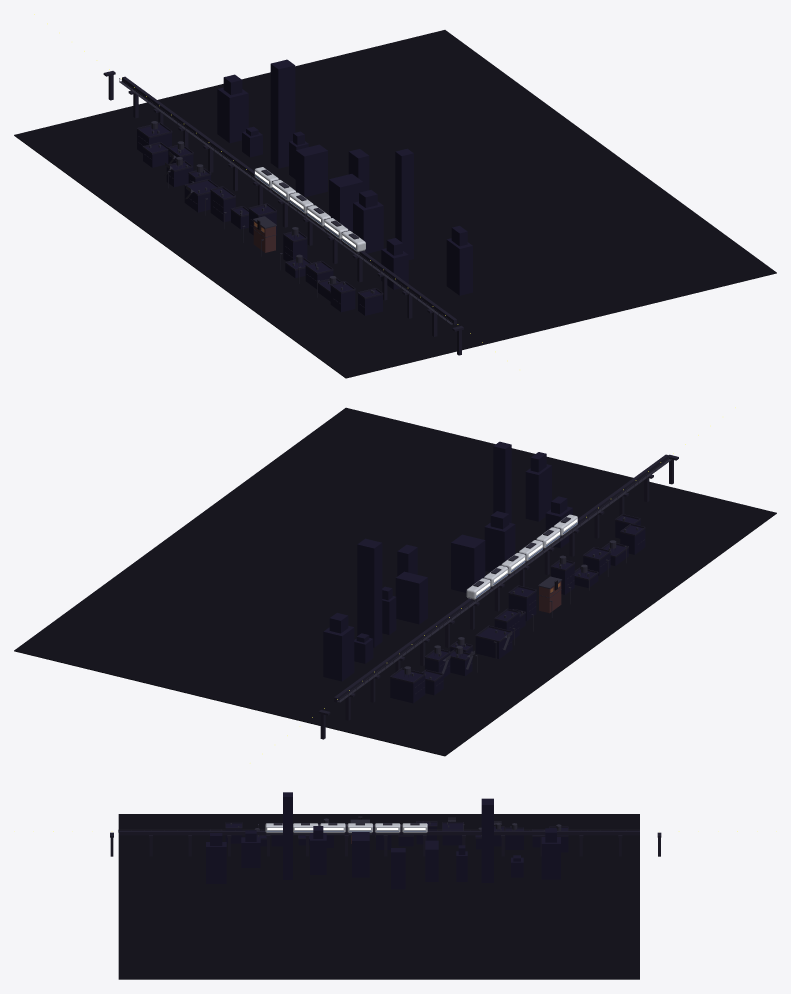
File: city.glb
The picture shows the model from 3 angles, top to bottom: view 1: azimuth 30°, elevation 25°; view 2: azimuth 150°, elevation 25°; view 3: azimuth 270°, elevation 25°; orthographic projection. The views are drawn at different scales.
Visible parts, largest first — view 1: City_Ground, Monorail_Bridge, Facade_Detail, Tower_23, Tower_17, Train_Body, Tower_25, Tower_15, Tower_18, Tower_21, Tower_19, Tower_16 (+4 smaller); view 2: City_Ground, Monorail_Bridge, Facade_Detail, Tower_23, Tower_25, Train_Body, Tower_19, Tower_15, Tower_21, Tower_18, Tower_17, Tower_14 (+5 smaller); view 3: City_Ground, Monorail_Bridge, Train_Body, Tower_23, Tower_15, Tower_25, Tower_17, Tower_19, Tower_18, Facade_Detail, Tower_16, Tower_20 (+3 smaller).
Part boxes in pixels (x1,y1,x2,y2): City_Ground: [14, 30, 776, 378]; Monorail_Bridge: [103, 71, 463, 355]; Facade_Detail: [137, 121, 383, 307]; Tower_23: [270, 59, 295, 168]; Tower_17: [395, 148, 413, 259]; Train_Body: [254, 167, 365, 253]; Tower_25: [217, 74, 248, 143]; Tower_15: [446, 226, 472, 295]; Tower_18: [353, 190, 383, 253]; Tower_21: [295, 144, 327, 197]; Tower_19: [329, 174, 363, 231]; Tower_16: [381, 238, 408, 289]; City_Ground: [14, 407, 776, 756]; Monorail_Bridge: [318, 454, 678, 739]; Facade_Detail: [390, 514, 645, 694]; Tower_23: [357, 538, 382, 647]; Tower_25: [323, 613, 354, 681]; Train_Body: [466, 514, 577, 601]; Tower_19: [451, 534, 485, 592]; Tower_15: [525, 452, 551, 521]; Tower_21: [395, 571, 427, 624]; Tower_18: [484, 511, 515, 572]; Tower_17: [493, 441, 511, 522]; Tower_14: [390, 669, 425, 703]; City_Ground: [118, 814, 639, 979]; Monorail_Bridge: [110, 829, 661, 856]; Train_Body: [265, 823, 427, 834]; Tower_23: [481, 798, 493, 882]; Tower_15: [206, 833, 226, 883]; Tower_25: [541, 828, 560, 879]; Tower_17: [283, 792, 292, 879]; Tower_19: [352, 832, 369, 877]; Tower_18: [310, 826, 326, 874]; Facade_Detail: [210, 817, 568, 839]; Tower_16: [241, 830, 260, 867]; Tower_20: [391, 848, 405, 889].
Size of the model in its own units: 120 by 28.33 by 234.
